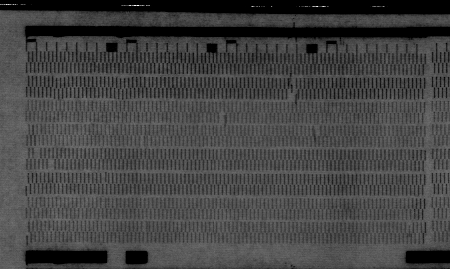Broken hole: (44, 160, 57, 171), (311, 126, 322, 138), (31, 146, 42, 158), (217, 114, 228, 125)
Oblique printing: (287, 74, 301, 104), (137, 135, 150, 148), (405, 222, 414, 236)
